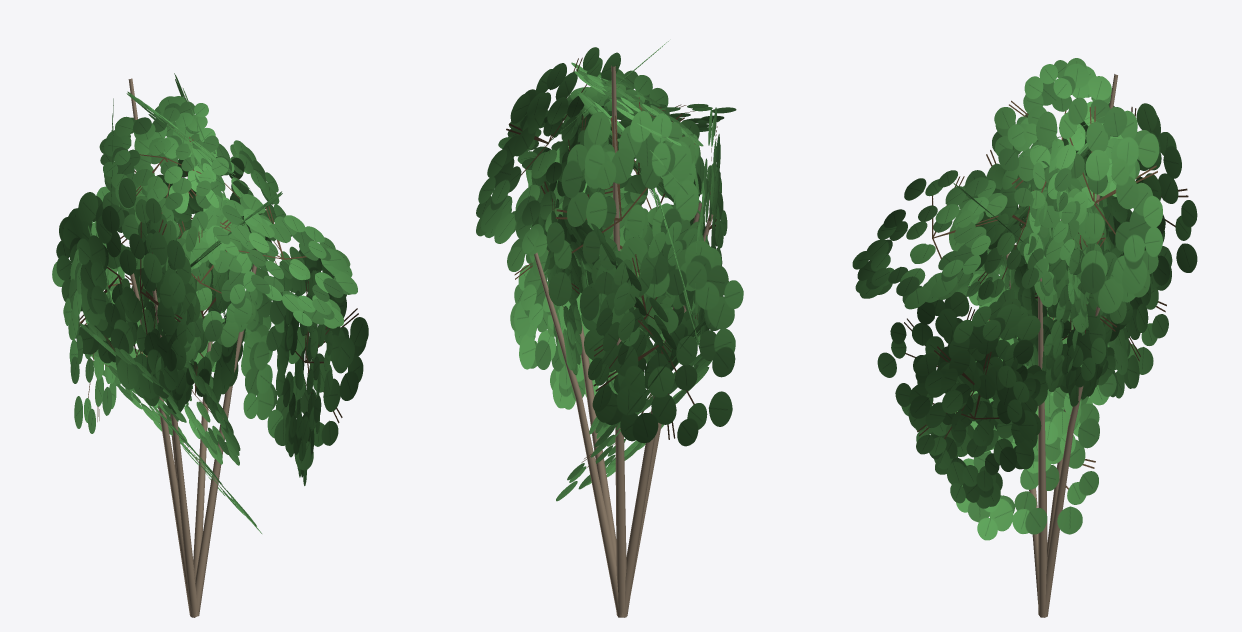
Rendered from clusia-fluminensis.glb.
The picture shows the model from 3 angles, left to right: view 1: azimuth 30°, elevation 25°; view 2: azimuth 150°, elevation 25°; view 3: azimuth 270°, elevation 25°; orthographic projection. The views are drawn at different scales.
Parts seen in each view (by area): view 1: folhas, galhos; view 2: folhas, galhos; view 3: folhas, galhos.
Part boxes in pixels (x1,y1,x2,y2): folhas: [52, 73, 368, 533]; galhos: [128, 78, 257, 617]; folhas: [476, 41, 743, 501]; galhos: [534, 65, 713, 617]; folhas: [852, 58, 1197, 540]; galhos: [1006, 74, 1117, 617].
Bounding box in the file's own units: 1.54 × 3 × 2.
2 materials, 1 textured.
